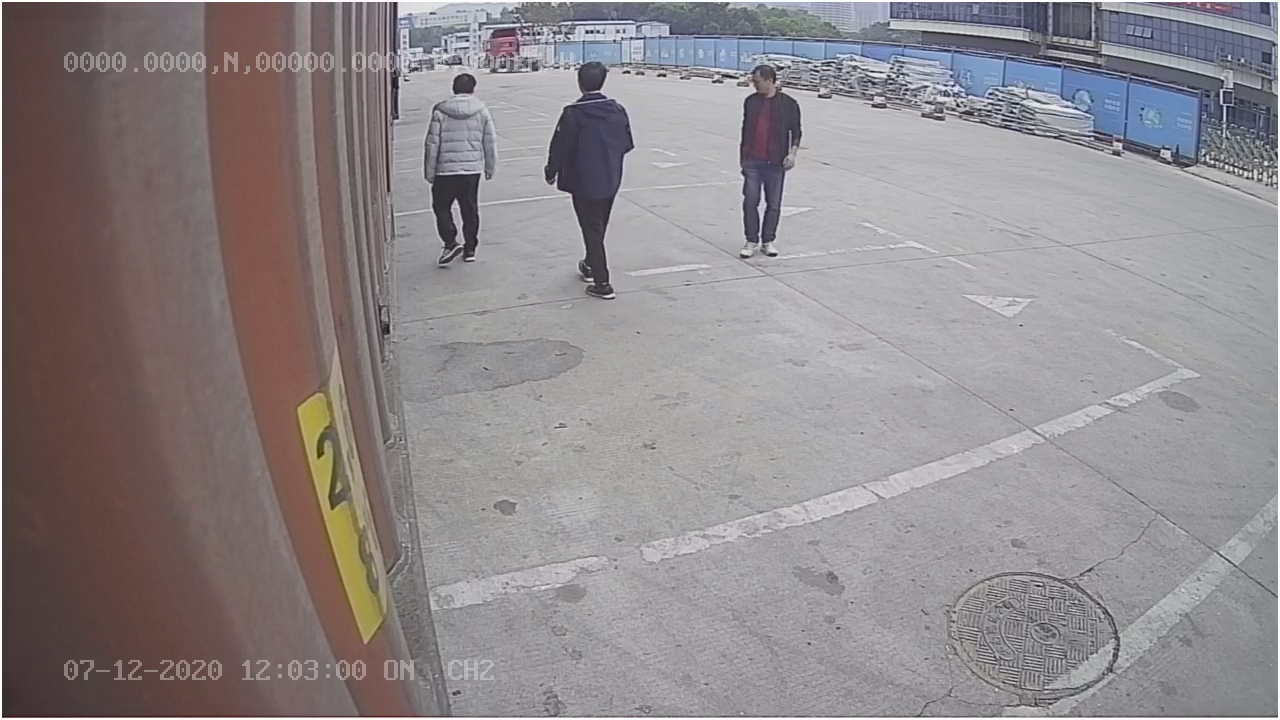person: (538, 54, 636, 301)
